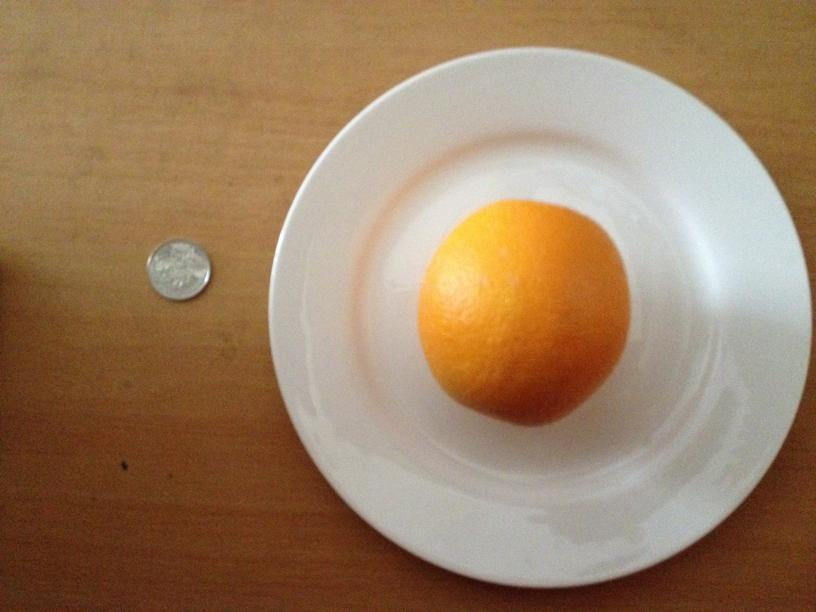coin: (147, 237, 212, 301)
orange: (418, 199, 631, 427)
